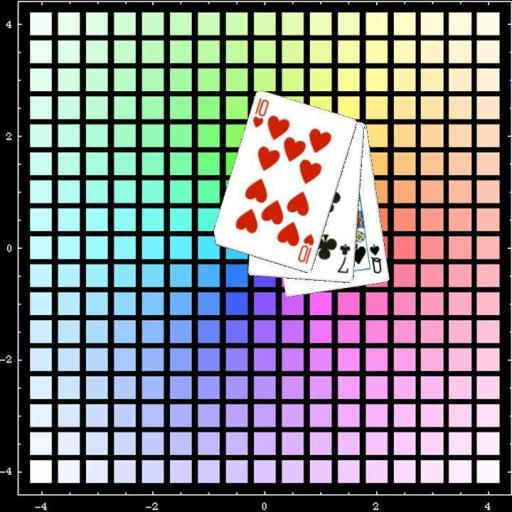card-corner: (294, 230, 316, 266), (250, 94, 271, 130), (334, 241, 352, 275), (367, 241, 383, 275)
